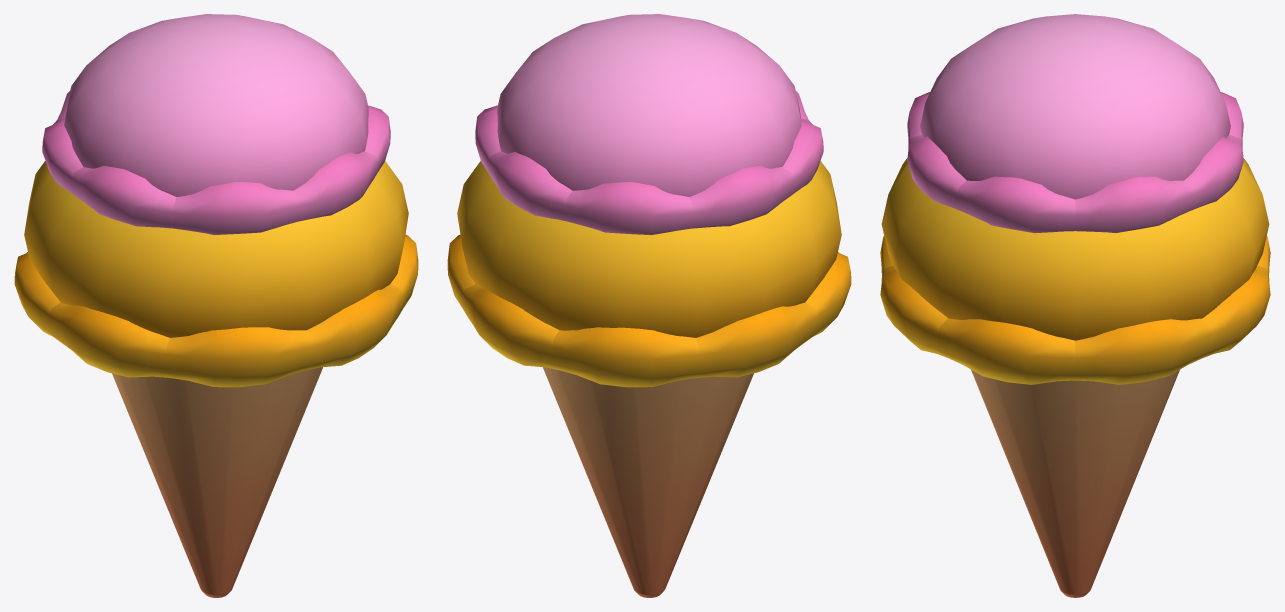
Rendered from Icecream_V3_00.fbx.
3 renders of one model, left to right at view 1: azimuth 30°, elevation 25°; view 2: azimuth 150°, elevation 25°; view 3: azimuth 270°, elevation 25°, orthographic.
Parts seen in each view (by area): view 1: Icecream_V3_00; view 2: Icecream_V3_00; view 3: Icecream_V3_00.
Boxes of the visible parts, box(x1,y1,x2,y2) form: Icecream_V3_00: box(14, 14, 418, 597); Icecream_V3_00: box(447, 14, 851, 597); Icecream_V3_00: box(880, 14, 1270, 597).
Bounding box in the file's own units: 31.28 × 49.57 × 31.28.
